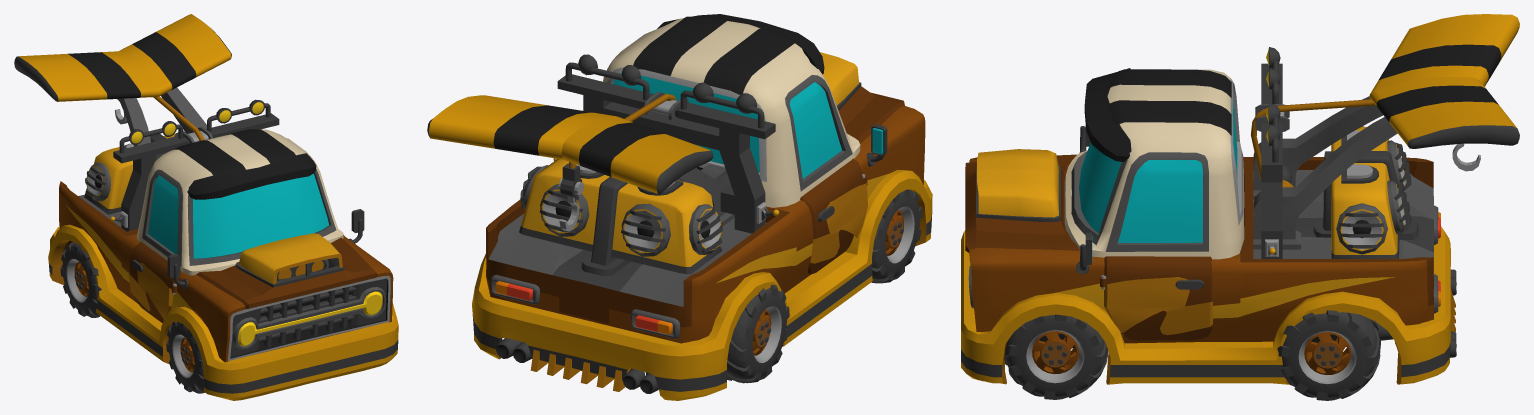
Rendered from VEH6-C.fbx.
3 renders of one model, left to right at view 1: azimuth 30°, elevation 25°; view 2: azimuth 150°, elevation 25°; view 3: azimuth 270°, elevation 25°, orthographic. The views are drawn at different scales.
Parts seen in each view (by area): view 1: VEH6_C, V6C_Wheel_BR, V6C_Wheel_FR, V6C_BodyParts; view 2: VEH6_C, V6C_Wheel_BR, V6C_Wheel_FR; view 3: VEH6_C, V6C_Wheel_BL, V6C_Wheel_FL, V6C_BodyParts.
Part boxes in pixels (bbox=[...]): VEH6_C: bbox=[14, 14, 398, 400]; V6C_Wheel_BR: bbox=[60, 242, 101, 317]; V6C_Wheel_FR: bbox=[166, 321, 204, 393]; V6C_BodyParts: bbox=[153, 96, 204, 140]; VEH6_C: bbox=[427, 14, 932, 400]; V6C_Wheel_BR: bbox=[727, 284, 789, 383]; V6C_Wheel_FR: bbox=[871, 189, 922, 283]; VEH6_C: bbox=[961, 14, 1519, 384]; V6C_Wheel_BL: bbox=[1277, 310, 1380, 400]; V6C_Wheel_FL: bbox=[1004, 314, 1107, 399]; V6C_BodyParts: bbox=[1251, 99, 1375, 187].
Size of the model in its own units: 248 by 254 by 468.
1 material, 1 textured.
